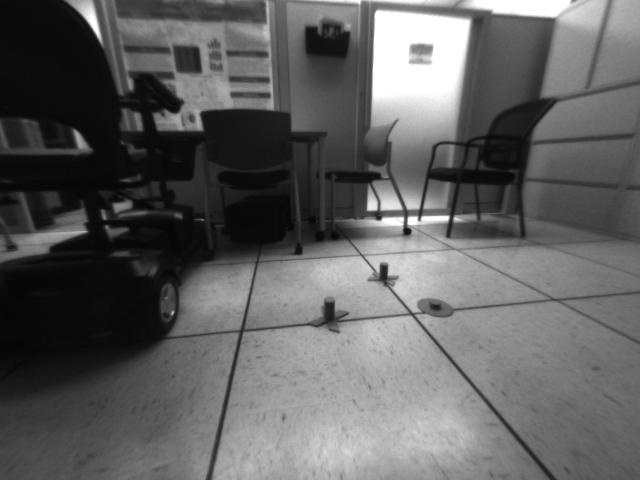X: (309, 294, 349, 334), (368, 261, 404, 289)
